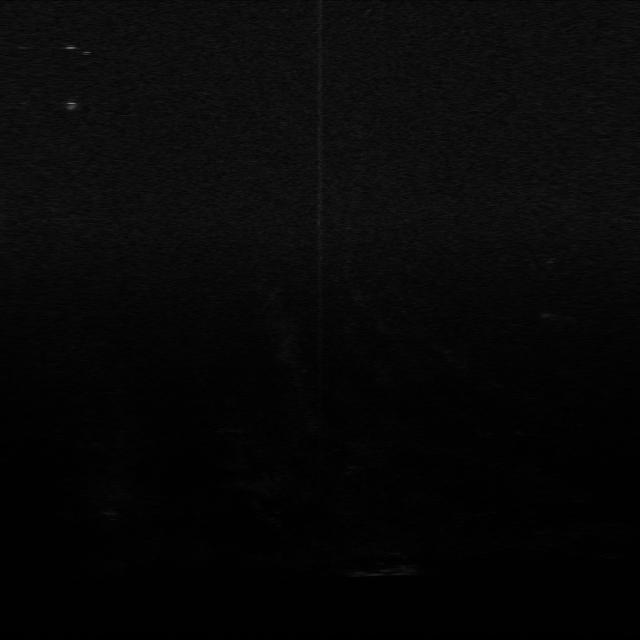rov: (57, 95, 87, 116)
